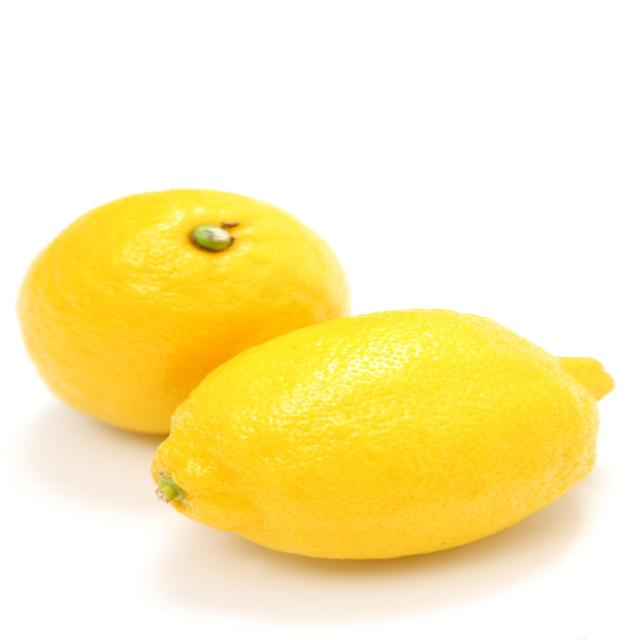lemon: (145, 304, 620, 566)
